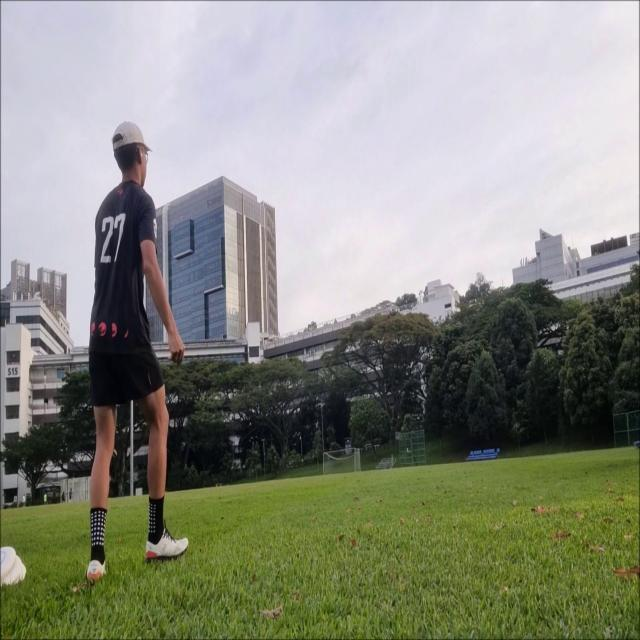disc: (484, 280, 494, 284)
